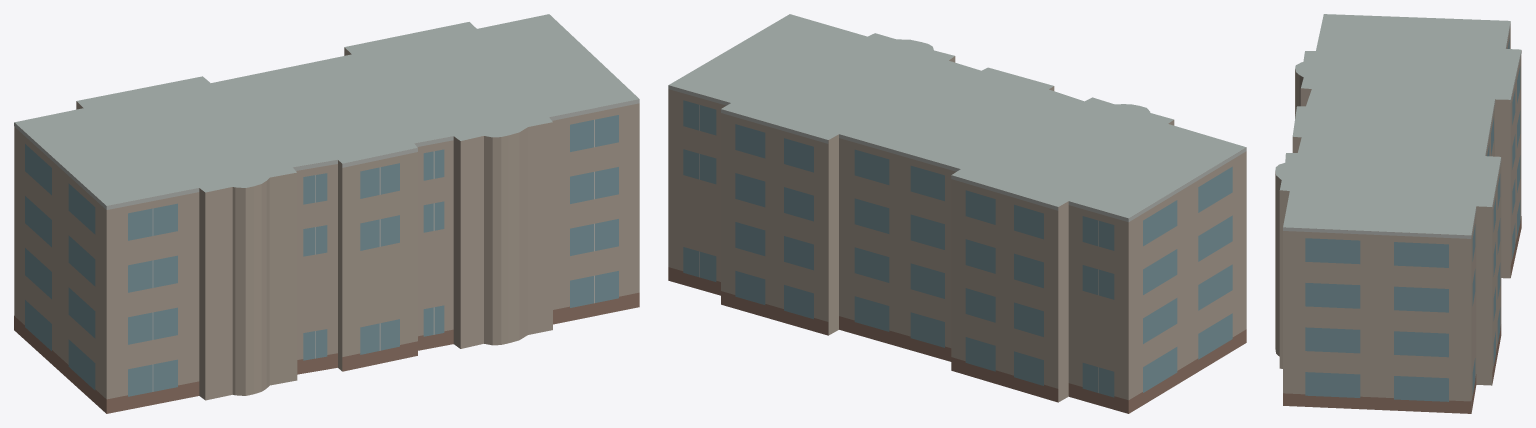
File: survey-upis-32829746.glb
3 renders of one model, left to right at view 1: azimuth 30°, elevation 25°; view 2: azimuth 150°, elevation 25°; view 3: azimuth 270°, elevation 25°, orthographic. The views are drawn at different scales.
Parts seen in each view (by area): view 1: survey-upis-32829746.tmp; view 2: survey-upis-32829746.tmp; view 3: survey-upis-32829746.tmp.
Boxes of the visible parts, x1,y1,x2,y2 form: survey-upis-32829746.tmp: [14, 14, 639, 413]; survey-upis-32829746.tmp: [668, 14, 1246, 413]; survey-upis-32829746.tmp: [1275, 14, 1521, 413].
Size of the model in its own units: 32.47 by 12.2 by 15.25.
